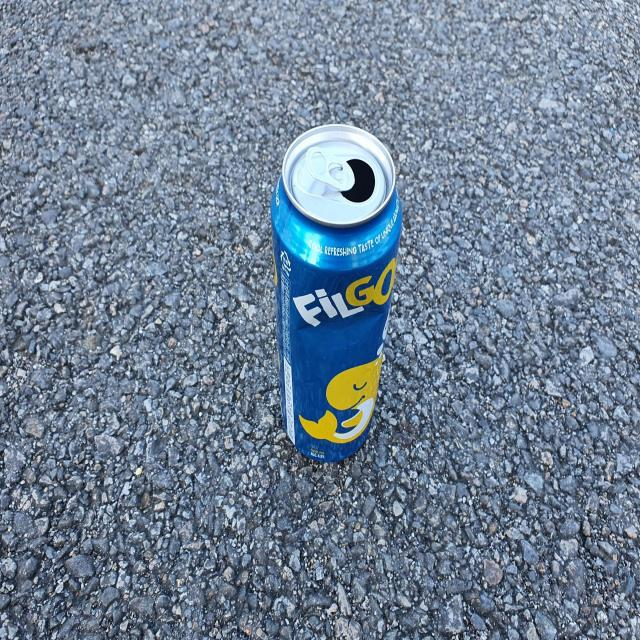can: (271, 124, 403, 462)
